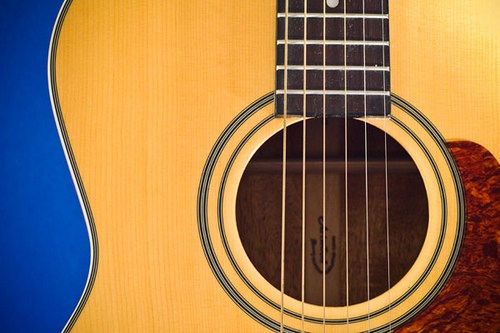guitar: (44, 1, 500, 333)
